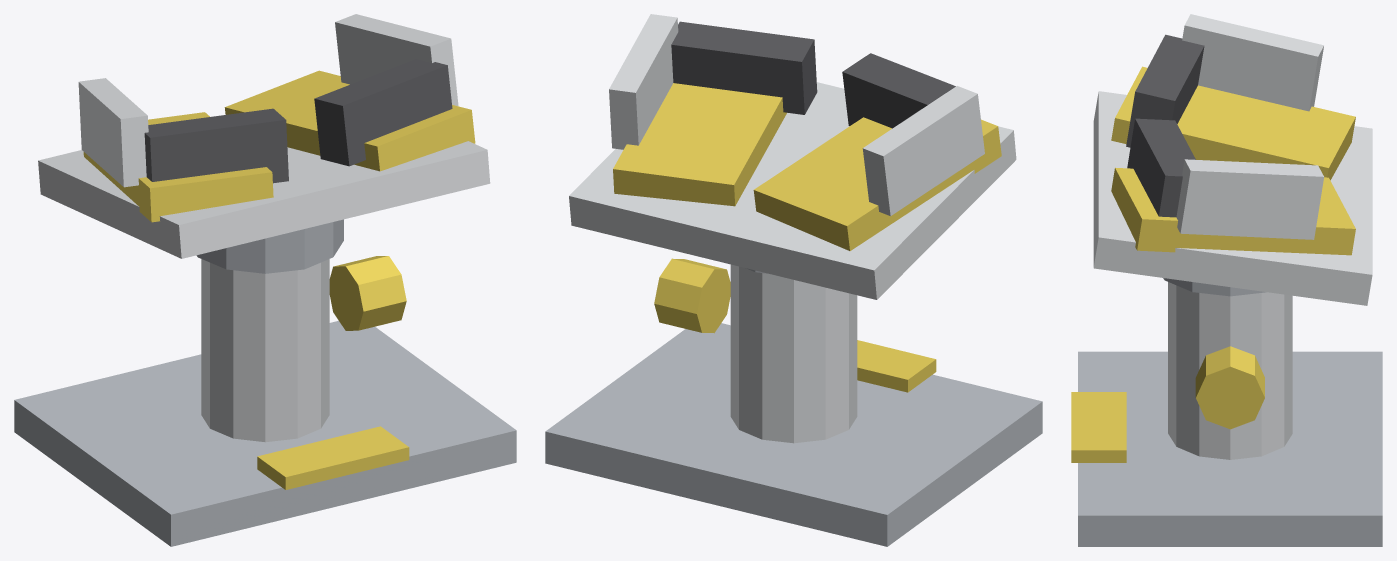
The model's file is orbital-station-and-docking-bays-foot-restraint-1995fafe__24578.glb.
The picture shows the model from 3 angles, left to right: view 1: azimuth 30°, elevation 25°; view 2: azimuth 150°, elevation 25°; view 3: azimuth 270°, elevation 25°; orthographic projection. The views are drawn at different scales.
Parts seen in each view (by area): view 1: foot-restraint, restraint-yaw (×4); view 2: restraint-yaw (×3), foot-restraint; view 3: foot-restraint, restraint-yaw (×4).
Part boxes in pixels (x1=…): foot-restraint: x1=14, y1=256, x2=516, y2=546; restraint-yaw (×4): x1=38, y1=14, x2=490, y2=273; restraint-yaw (×3): x1=569, y1=14, x2=1016, y2=299; foot-restraint: x1=545, y1=258, x2=1042, y2=546; foot-restraint: x1=1071, y1=282, x2=1382, y2=546; restraint-yaw (×4): x1=1093, y1=14, x2=1372, y2=305.
Bounding box in the file's own units: 0.56 × 0.5938 × 0.45.
